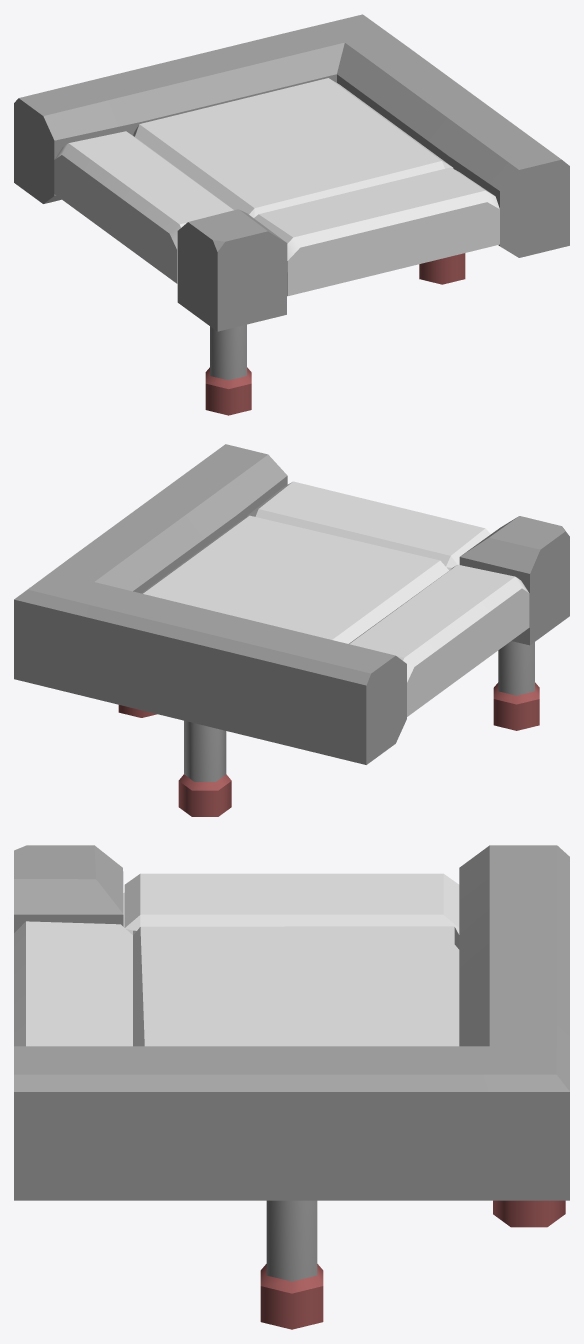
The model's file is SM_ConveyorBelt_Angle.fbx.
3 views of the same model, one above another, from view 1: azimuth 30°, elevation 25°; view 2: azimuth 150°, elevation 25°; view 3: azimuth 270°, elevation 25° (orthographic). The views are drawn at different scales.
Parts seen in each view (by area): view 1: Static, Moving; view 2: Static, Moving; view 3: Static, Moving.
Boxes of the visible parts, x1,y1,x2,y2 form: Static: [14, 14, 569, 415]; Moving: [54, 78, 499, 296]; Static: [14, 444, 569, 816]; Moving: [141, 481, 529, 716]; Static: [14, 845, 569, 1329]; Moving: [14, 873, 459, 1046].
Bounding box in the file's own units: 100 × 49.89 × 100.
